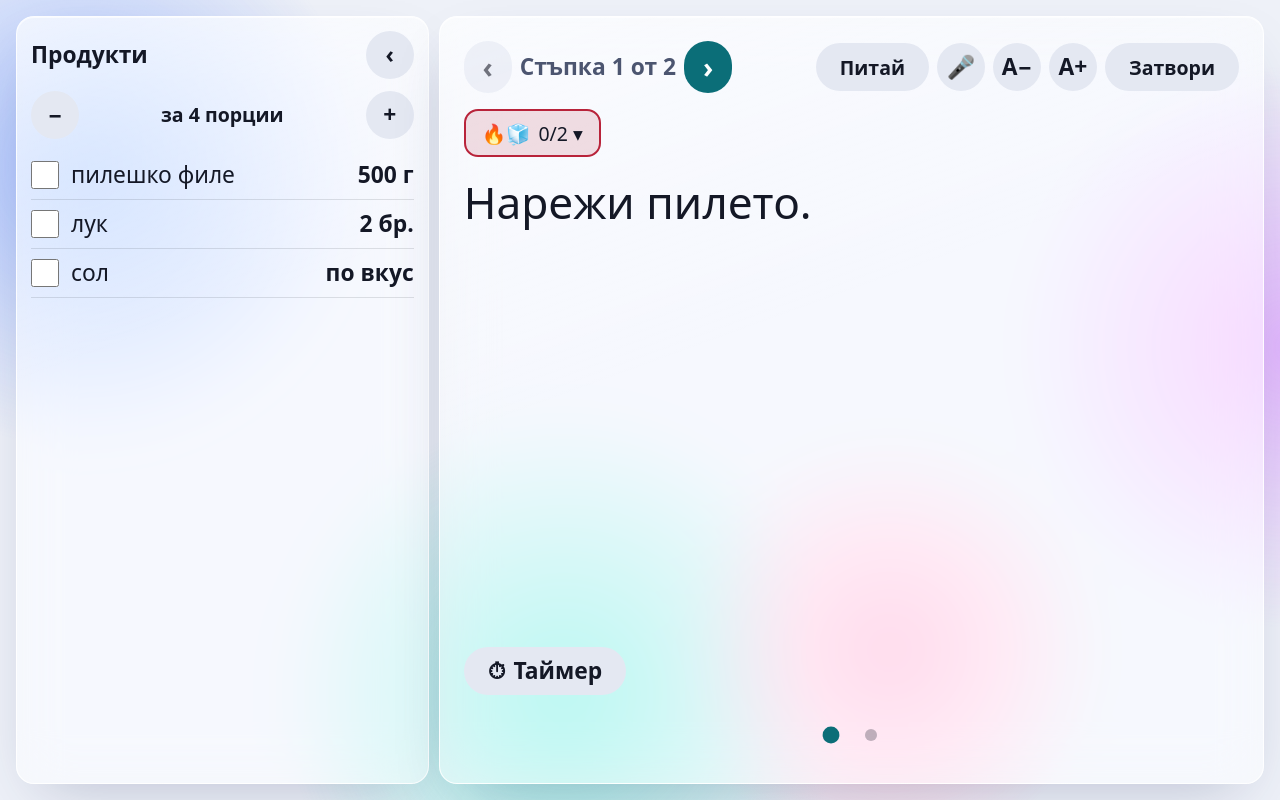
Scenario: Подготовка в Готвене на нисък екран (легнал телефон) › докосването отваря лист с чиповете, а отметката в него сменя брояча
The width and height of the screenshot is (1280, 800).
What coordinates should you click on to do the following:
click the button named "Подготовка: 0 от 2 готови"
I would click on:
 (532, 133)
Its box is [464,109,601,157].
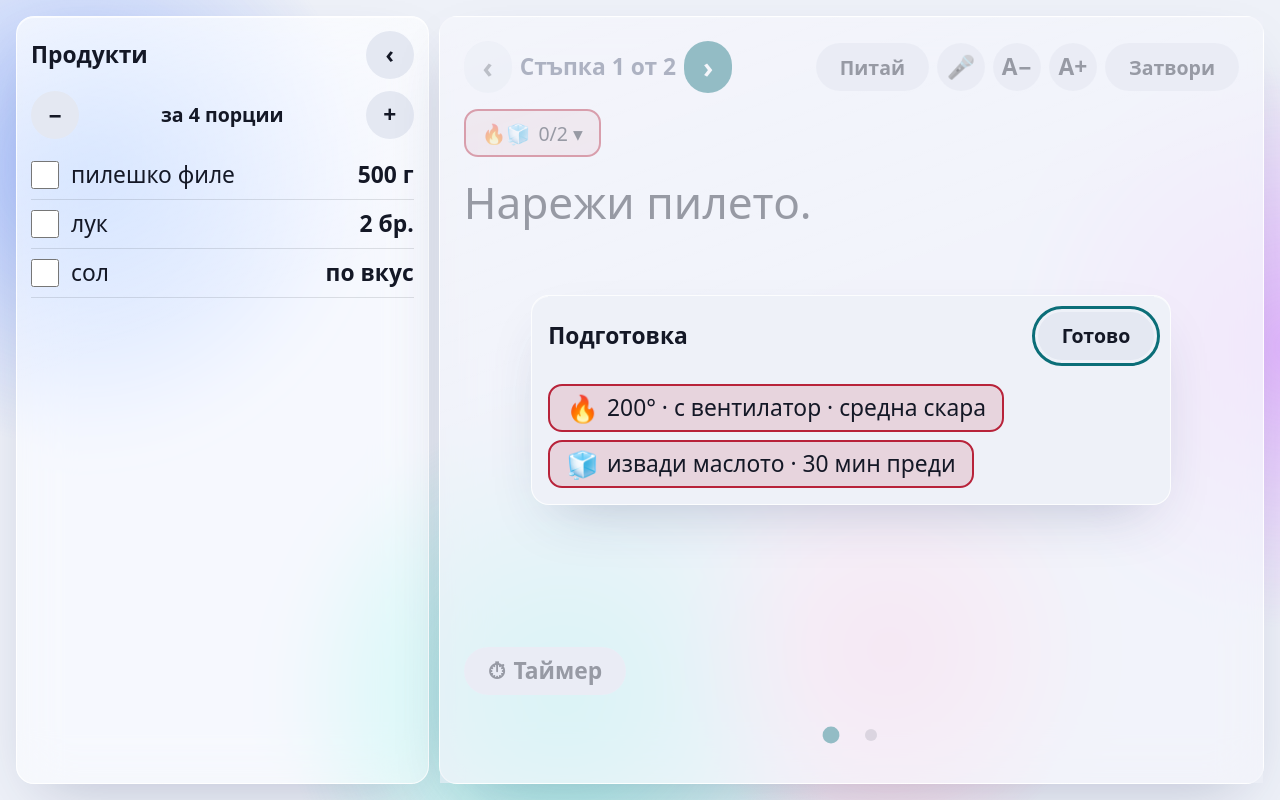
What coordinates should you click on to do the following:
click the button with aria-label "Фурна 200° · с вентилатор · средна скара"
I would click on:
 (776, 408)
Its box is [548,384,1004,432].
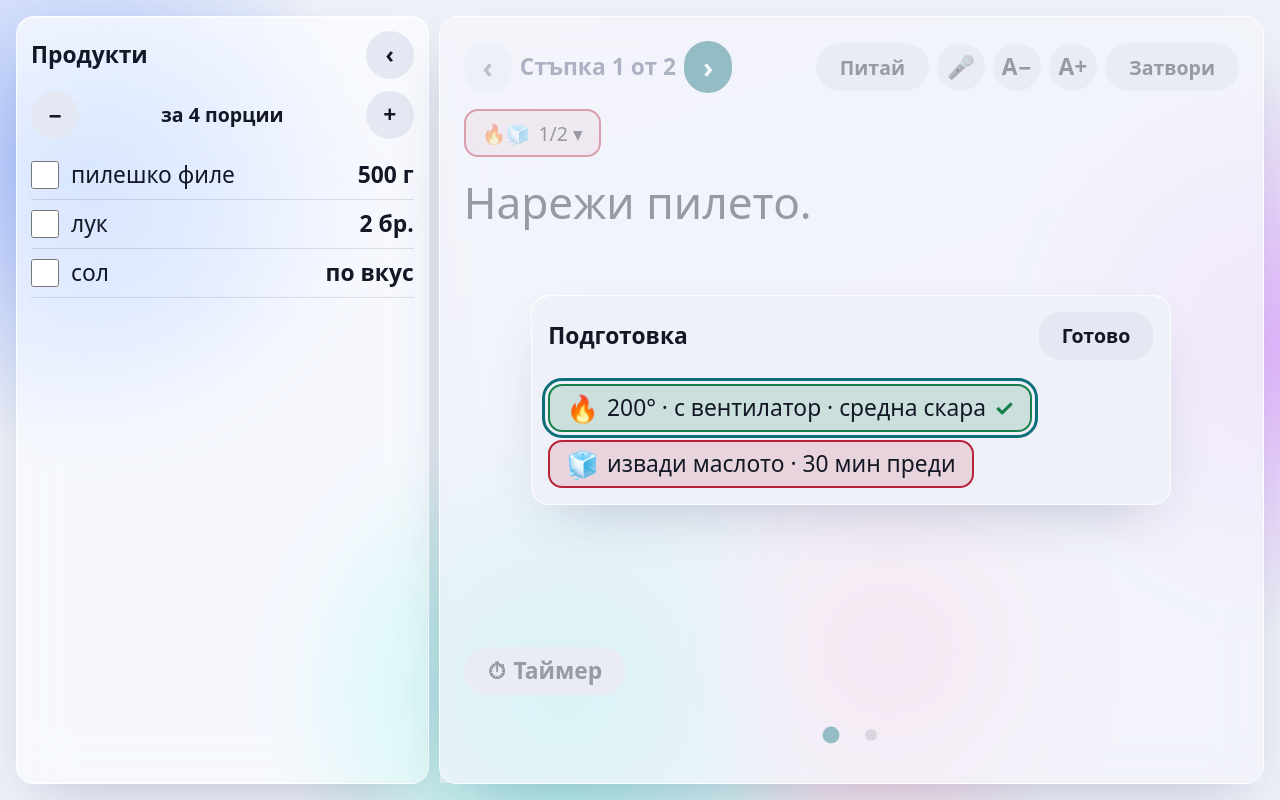
Now the button named "Подготовка: 1 от 2 готови" is expanded, box [464,109,601,157]
What coordinates should you click on to do the following:
click the button "Готово"
I would click on:
 (1096, 336)
Its box is [1038,312,1154,360].
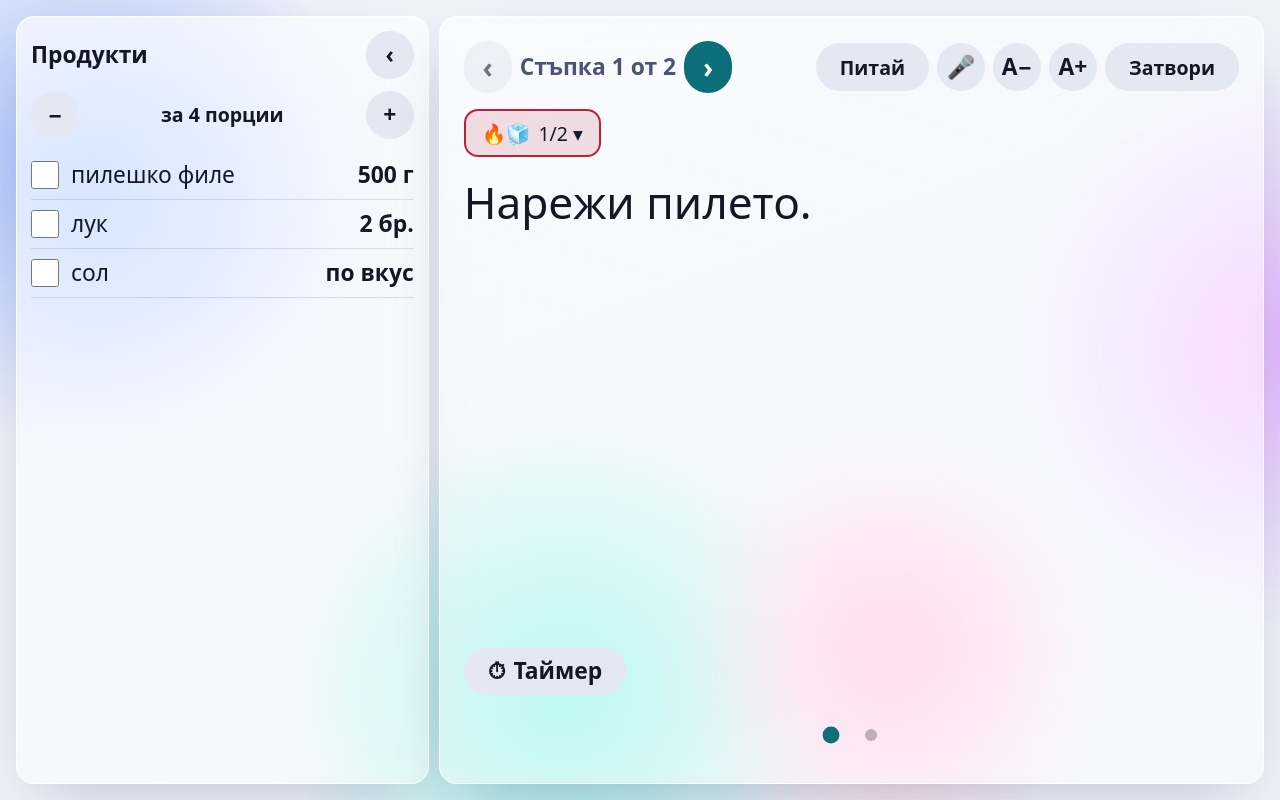
Now the dialog is gone
Now the button named "Подготовка: 1 от 2 готови" is collapsed, box [464,109,601,157]
